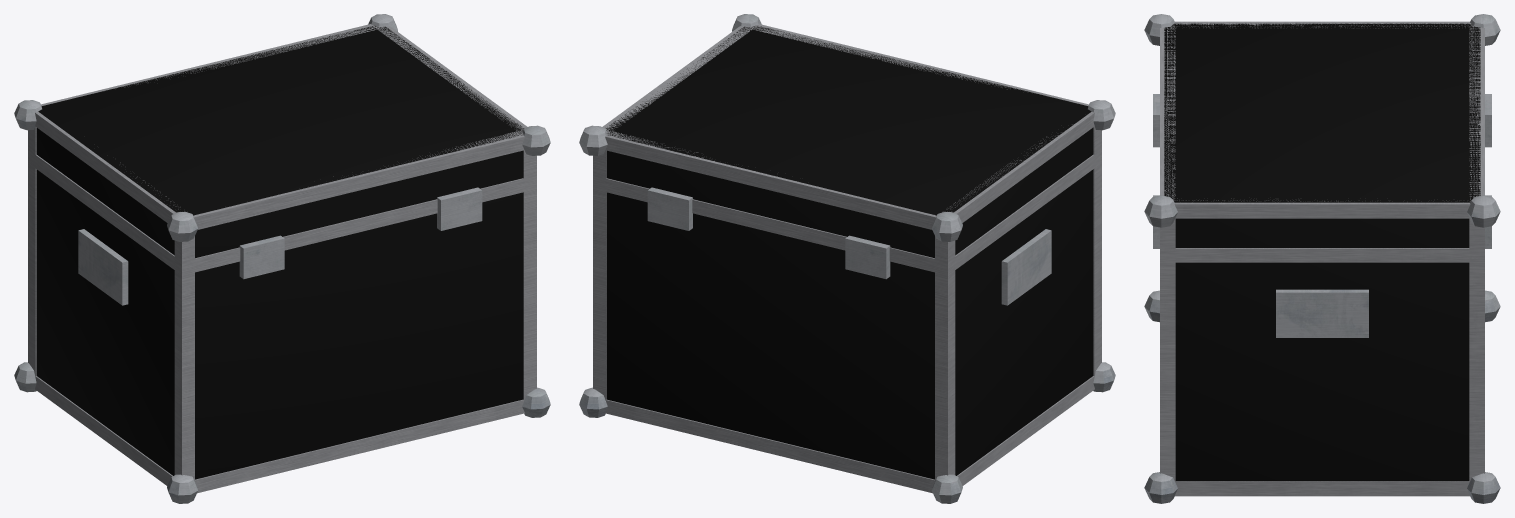
File: road_case_small.gltf
3 renders of one model, left to right at view 1: azimuth 30°, elevation 25°; view 2: azimuth 150°, elevation 25°; view 3: azimuth 270°, elevation 25°, orthographic. The views are drawn at different scales.
Parts seen in each view (by area): view 1: road_case_small; view 2: road_case_small; view 3: road_case_small.
Part boxes in pixels (x1,y1,x2,y2): road_case_small: (14,14,550,503); road_case_small: (579,14,1115,503); road_case_small: (1144,14,1500,503).
Size of the model in its own units: 0.648 by 0.474 by 0.498.
Materials: 4 (4 with a texture image).
